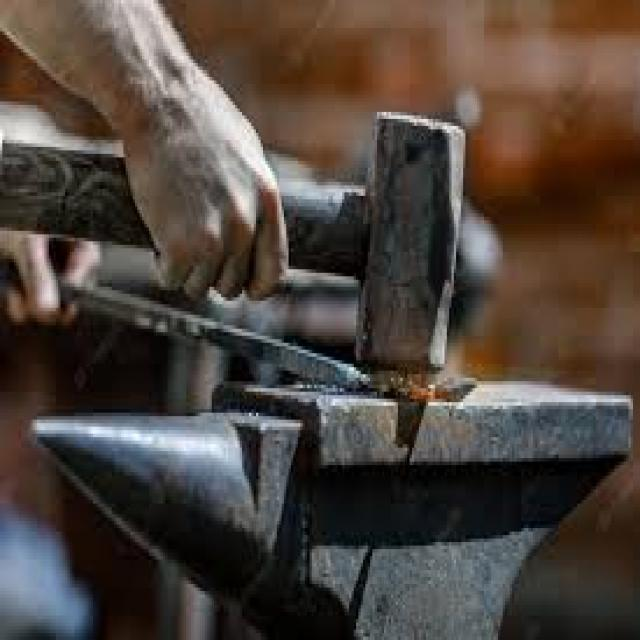hammer: (0, 88, 491, 382)
